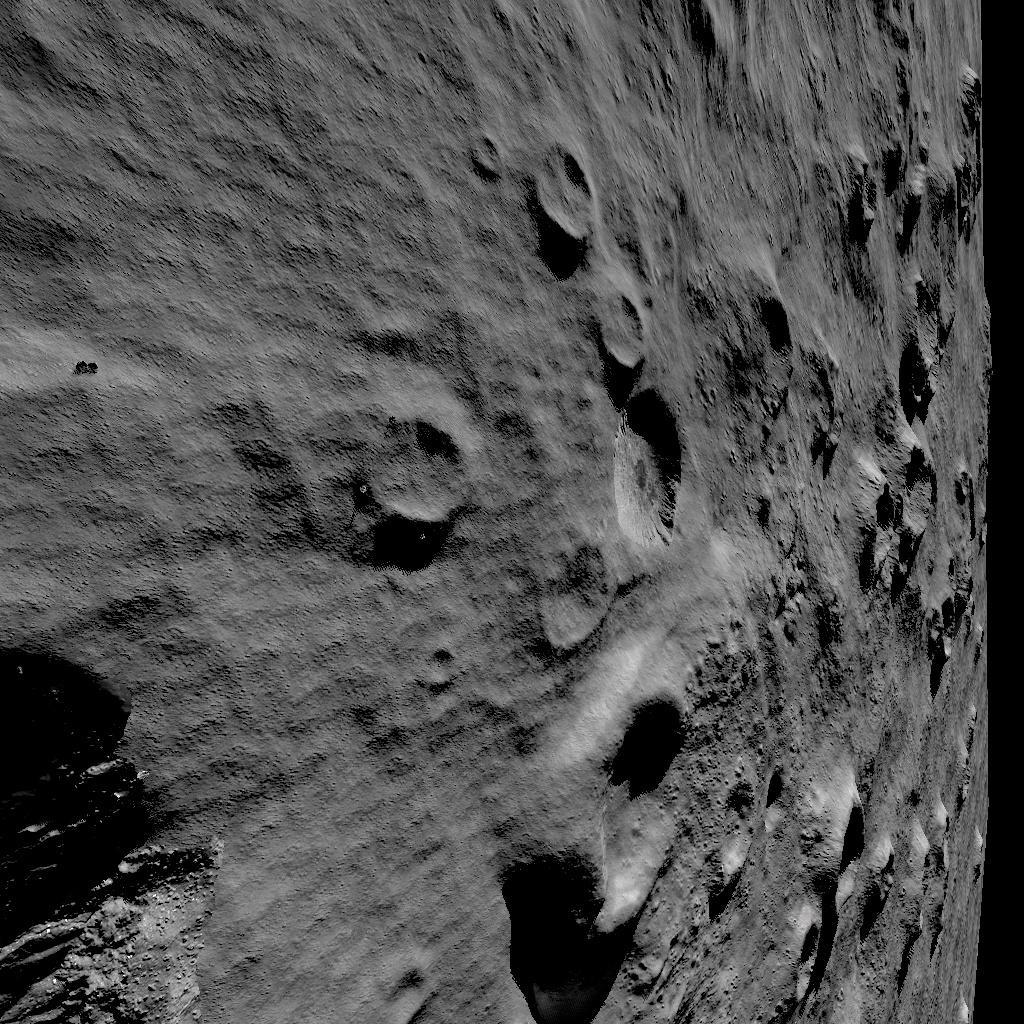Boulders: (0, 632, 216, 1024)
Crater: (500, 638, 696, 998), (534, 142, 690, 548), (708, 732, 942, 992), (838, 295, 988, 640), (646, 0, 948, 100), (828, 112, 990, 258), (716, 290, 810, 485), (351, 412, 473, 538)
Plan surface: (0, 0, 498, 395), (234, 565, 470, 1024), (0, 410, 341, 553)
